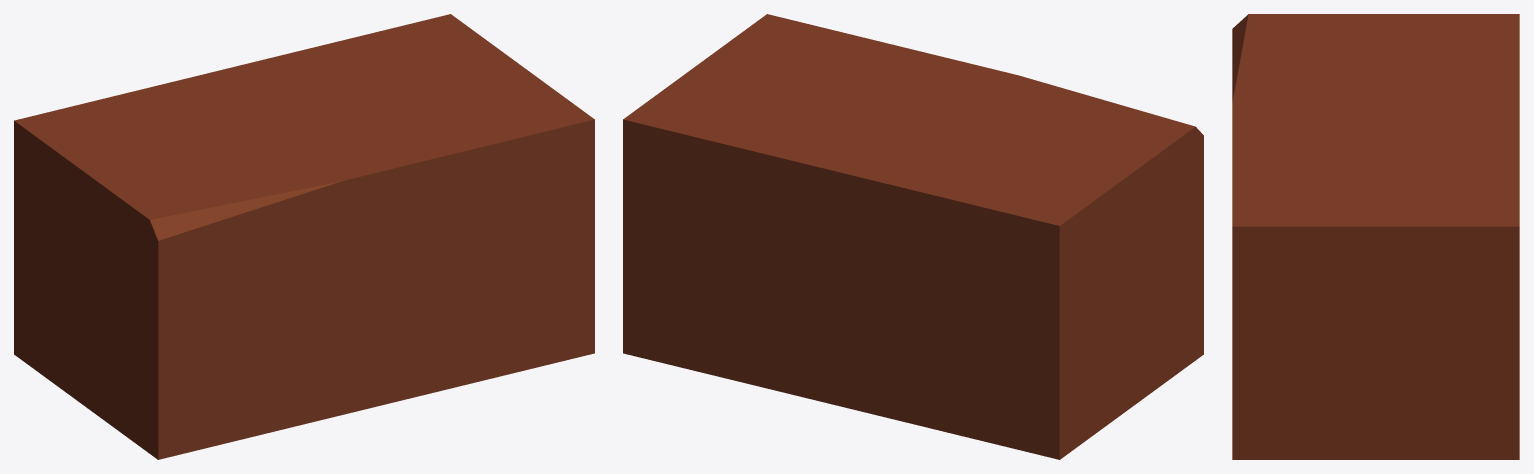
The model's file is Brick_02.fbx.
3 views of the same model, side by side, from view 1: azimuth 30°, elevation 25°; view 2: azimuth 150°, elevation 25°; view 3: azimuth 270°, elevation 25° (orthographic).
Parts seen in each view (by area): view 1: Brick_02; view 2: Brick_02; view 3: Brick_02.
Boxes of the visible parts, x1,y1,x2,y2 form: Brick_02: [14, 14, 594, 459]; Brick_02: [623, 14, 1203, 459]; Brick_02: [1232, 14, 1519, 459].
Bounding box in the file's own units: 45.32 × 23.19 × 25.9.
